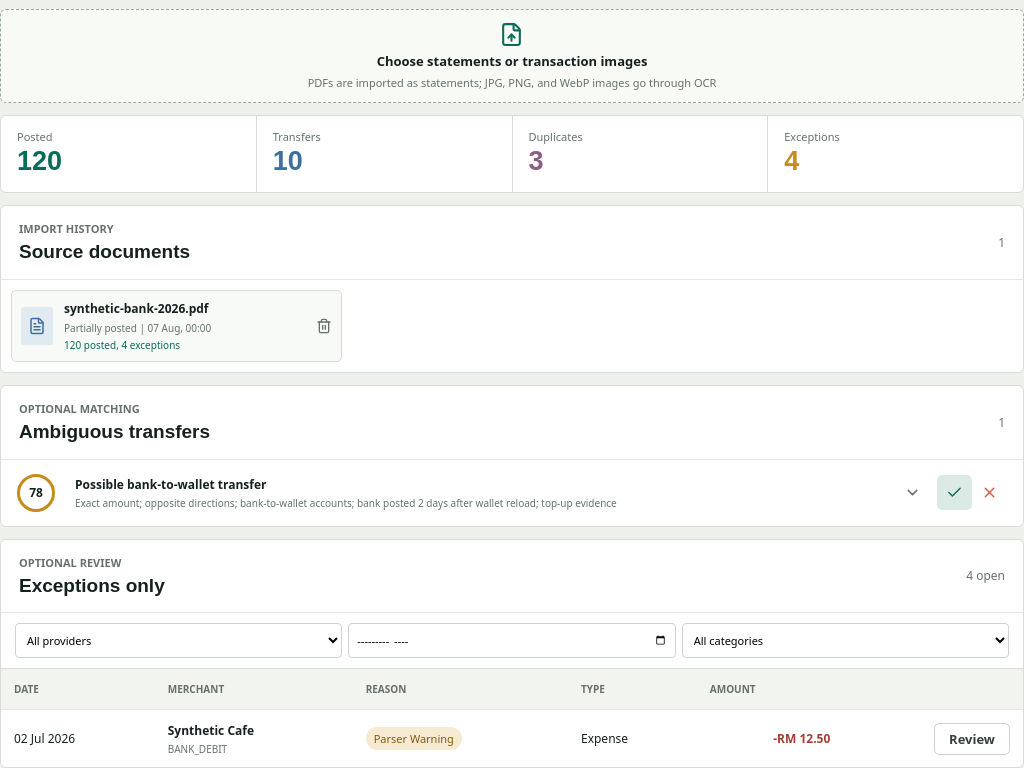
Test case: ImportsPage statement-first workflow › shows automatic outcomes and opens source preview only for a selected exception
(page scrolled)
Expected: the text "120" is shown, [17,146,62,176]
Expected: the text "4" is shown, [784,146,799,176]
Click the button "Review" at (972, 739), box [934,723,1010,755]
(page scrolled)
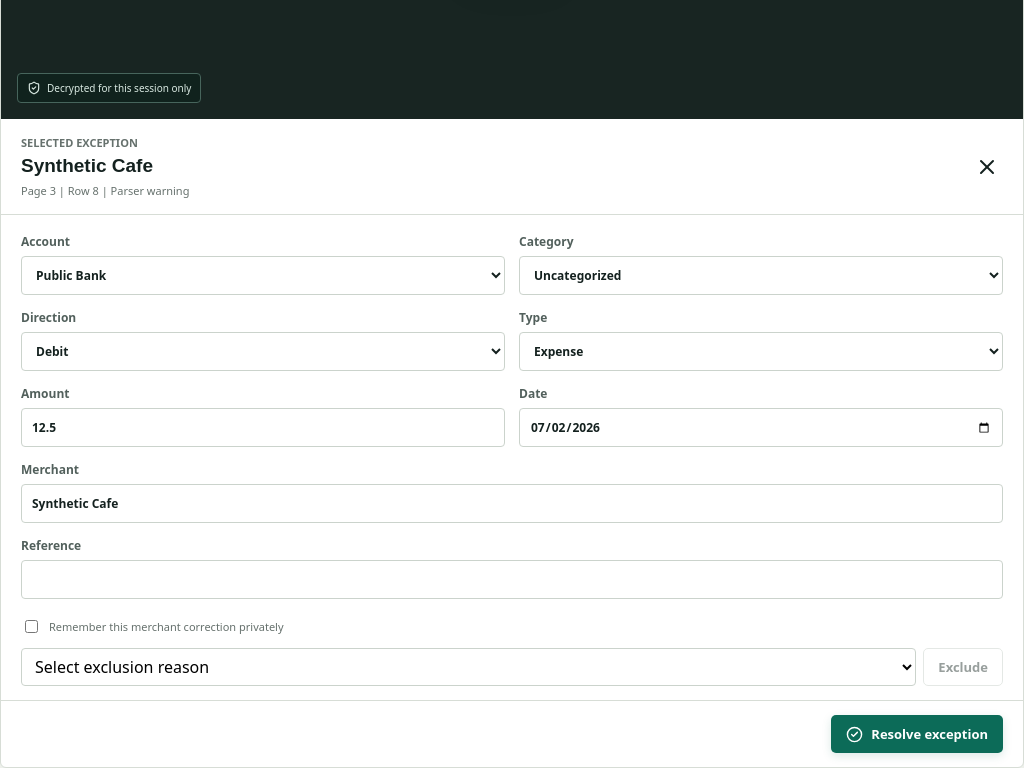
Result: the button "Resolve exception" is shown at [831,715,1003,753]
Result: the button "Exclude" is shown at [923,648,1003,686]
